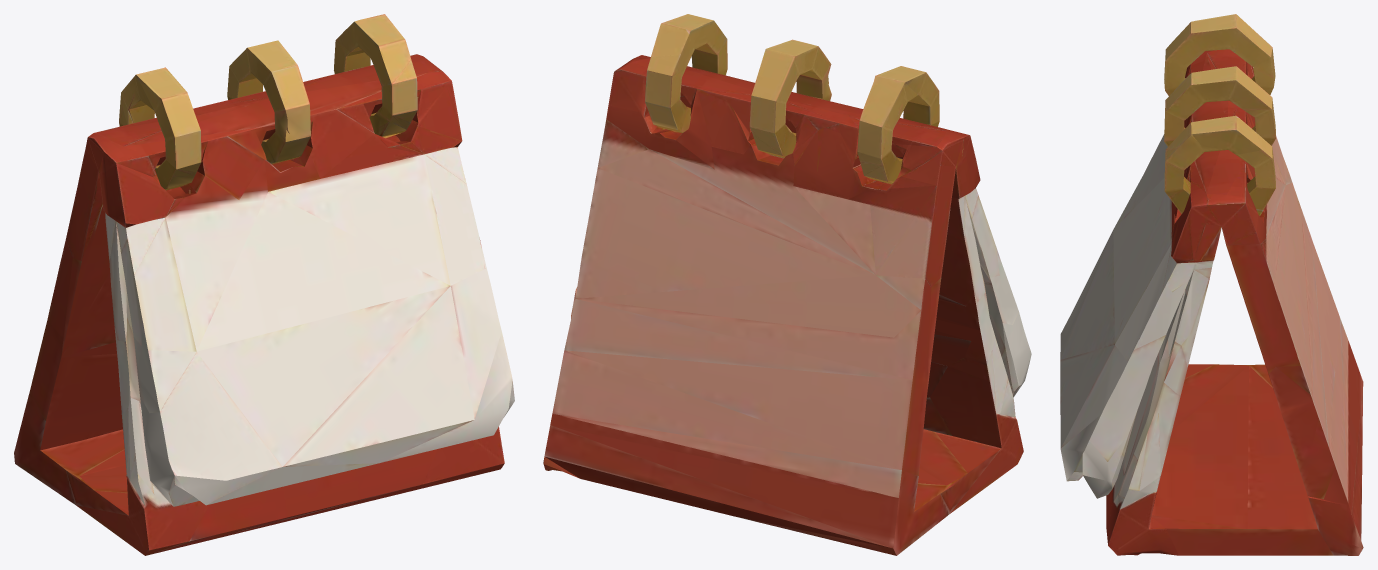
File: deskCalendar.glb
The picture shows the model from 3 angles, left to right: view 1: azimuth 30°, elevation 25°; view 2: azimuth 150°, elevation 25°; view 3: azimuth 270°, elevation 25°; orthographic projection. The views are drawn at different scales.
Parts seen in each view (by area): view 1: Mesh_0; view 2: Mesh_0; view 3: Mesh_0.
Boxes of the visible parts, left/top/right/bottom form: Mesh_0: left=14, top=14, right=514, bottom=555; Mesh_0: left=543, top=14, right=1031, bottom=555; Mesh_0: left=1060, top=14, right=1363, bottom=555.
Bounding box in the file's own units: 1.78 × 2 × 1.37.
Materials: 1 (1 with a texture image).
